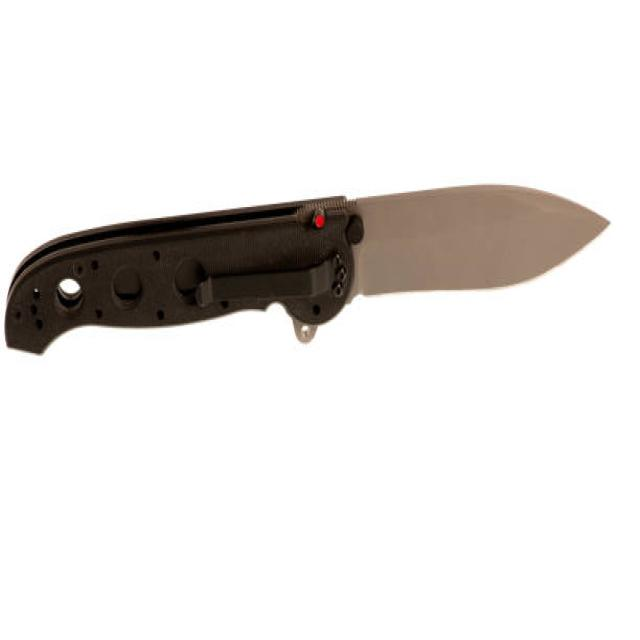knife: (1, 162, 615, 383)
